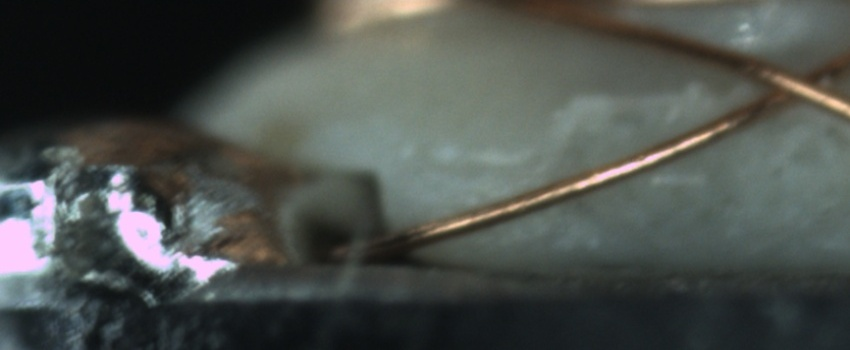CL: (743, 50, 842, 118)
DL: (441, 133, 543, 193)
